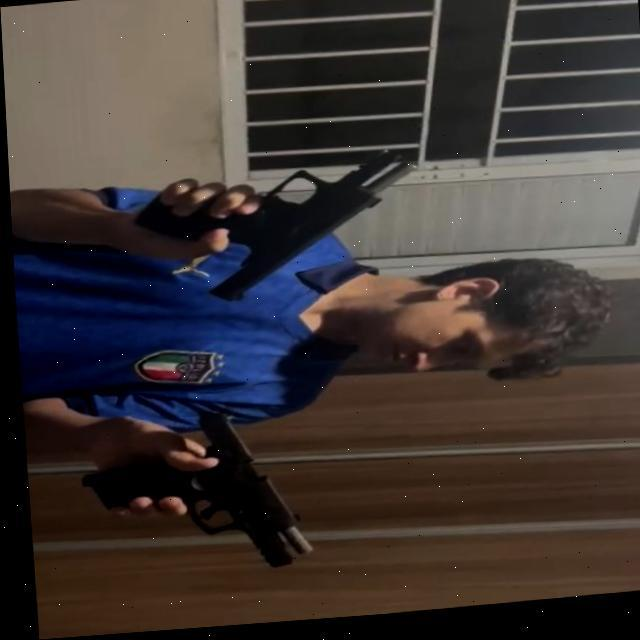gun: (132, 154, 424, 314), (68, 406, 310, 586)
